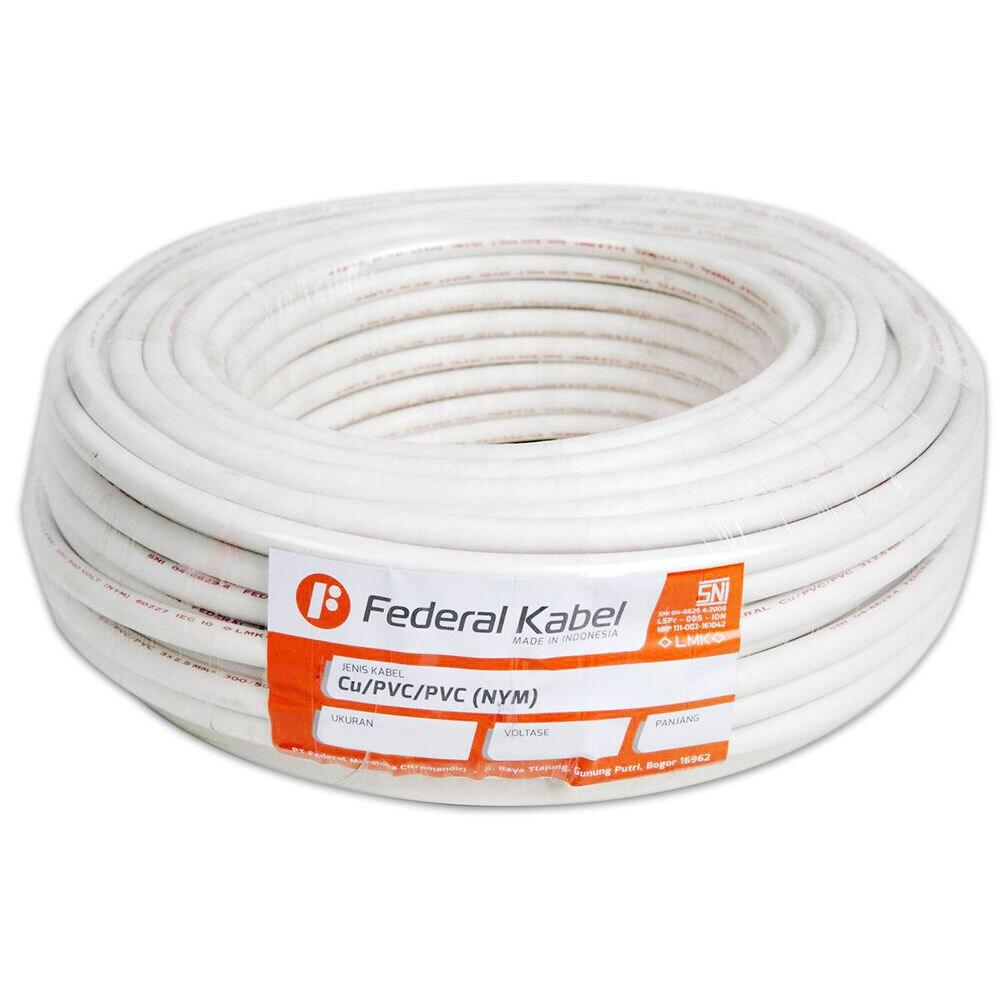PVC: (0, 68, 1000, 920)
